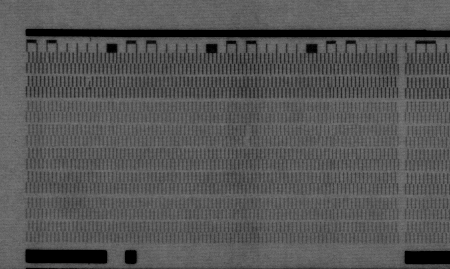Broken hole: (241, 125, 255, 148)
Oblique printing: (83, 76, 94, 89)
